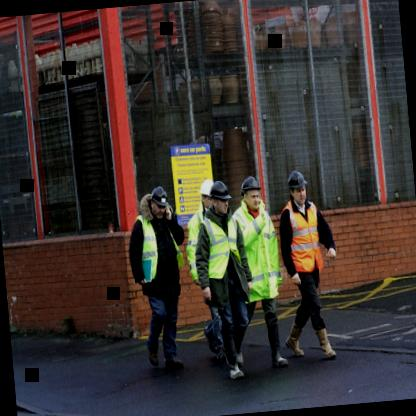helmet: (240, 175, 264, 213), (286, 168, 310, 206), (210, 180, 232, 217), (150, 186, 171, 219), (199, 177, 217, 213)
